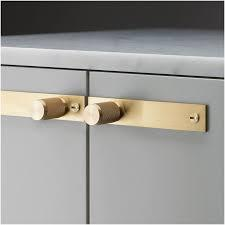cabinet_door: (87, 82, 225, 225), (2, 68, 86, 222)
handle: (85, 96, 119, 134), (28, 93, 64, 124)
